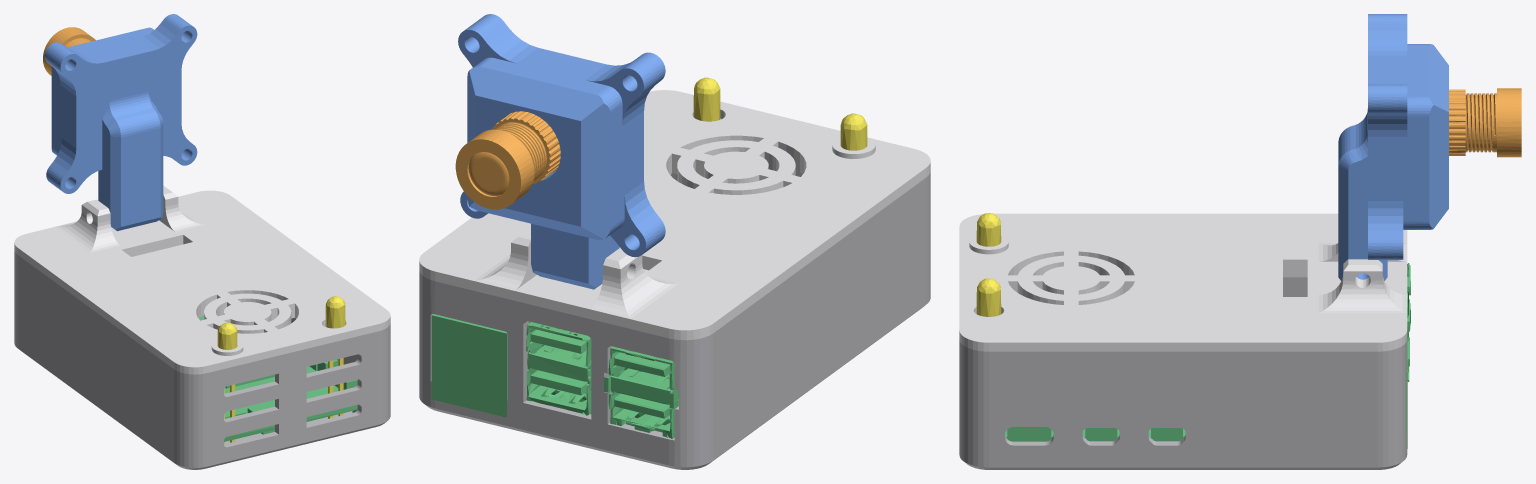
Rendered from cooper-camera.glb.
3 views of the same model, side by side, from view 1: azimuth 30°, elevation 25°; view 2: azimuth 150°, elevation 25°; view 3: azimuth 270°, elevation 25° (orthographic). The views are drawn at different scales.
Visible parts, largest first — view 1: Pi_Case_Lid, Pi_Case, Camera_Mount, RASPBERRY_PI_5_1, LED5mm_Red, Camera_Module, LED5mm_Yellow; view 2: Pi_Case_Lid, Pi_Case, Camera_Mount, RASPBERRY_PI_5_1, Camera_Module, LED5mm_Red, LED5mm_Yellow; view 3: Pi_Case_Lid, Pi_Case, Camera_Mount, Camera_Module, RASPBERRY_PI_5_1, LED5mm_Red, LED5mm_Yellow.
Boxes of the visible parts, x1,y1,x2,y2 form: Pi_Case_Lid: [14, 185, 390, 374]; Pi_Case: [14, 250, 390, 469]; Camera_Mount: [44, 14, 197, 231]; RASPBERRY_PI_5_1: [199, 315, 357, 441]; LED5mm_Red: [325, 296, 345, 418]; Camera_Module: [43, 27, 95, 75]; LED5mm_Yellow: [217, 322, 237, 444]; Pi_Case_Lid: [419, 90, 930, 340]; Pi_Case: [419, 169, 930, 469]; Camera_Mount: [458, 14, 665, 289]; RASPBERRY_PI_5_1: [431, 314, 678, 438]; Camera_Module: [455, 111, 560, 209]; LED5mm_Red: [693, 77, 720, 121]; LED5mm_Yellow: [840, 113, 867, 150]; Pi_Case_Lid: [959, 213, 1407, 351]; Pi_Case: [959, 277, 1407, 469]; Camera_Mount: [1338, 14, 1448, 280]; Camera_Module: [1449, 88, 1521, 157]; RASPBERRY_PI_5_1: [1005, 263, 1410, 448]; LED5mm_Red: [976, 278, 1001, 316]; LED5mm_Yellow: [976, 213, 1001, 246].
Bounding box in the file's own units: 0.062 × 0.0818 × 0.1142.
